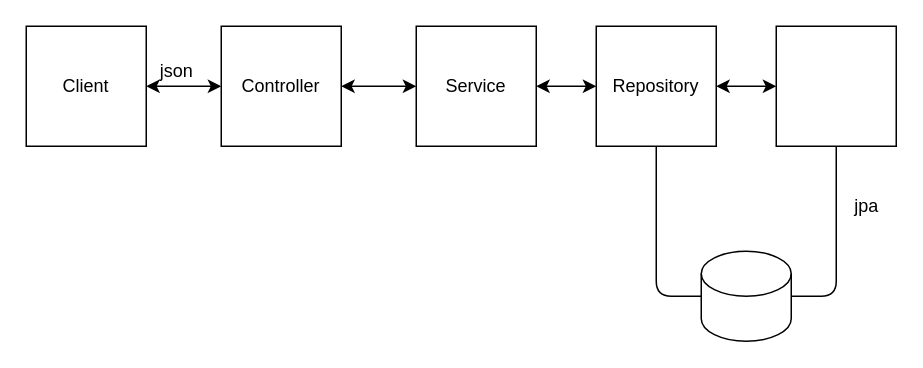
Some shapes in this 923 by 368 pixel diagram are drawn without their labels. The centre of each missing label's shape, as x and y in pixels:
"Database" belongs at [745,295].
"Model" belongs at [835,85].
